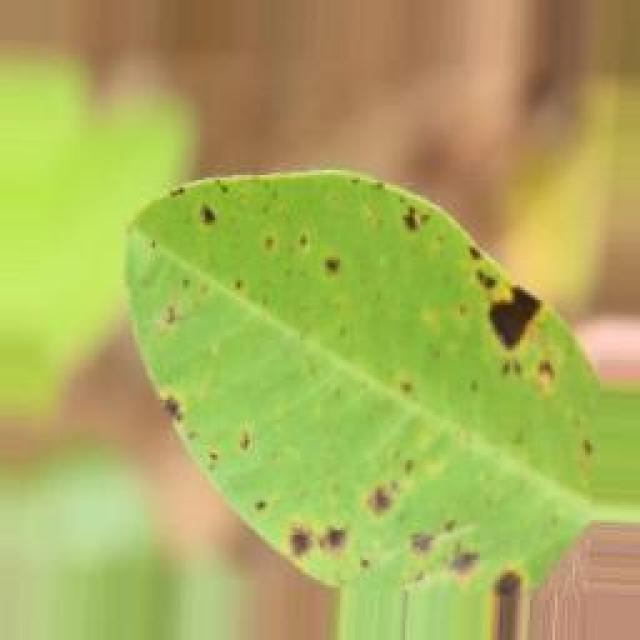Yellowish: (63, 161, 590, 607)
